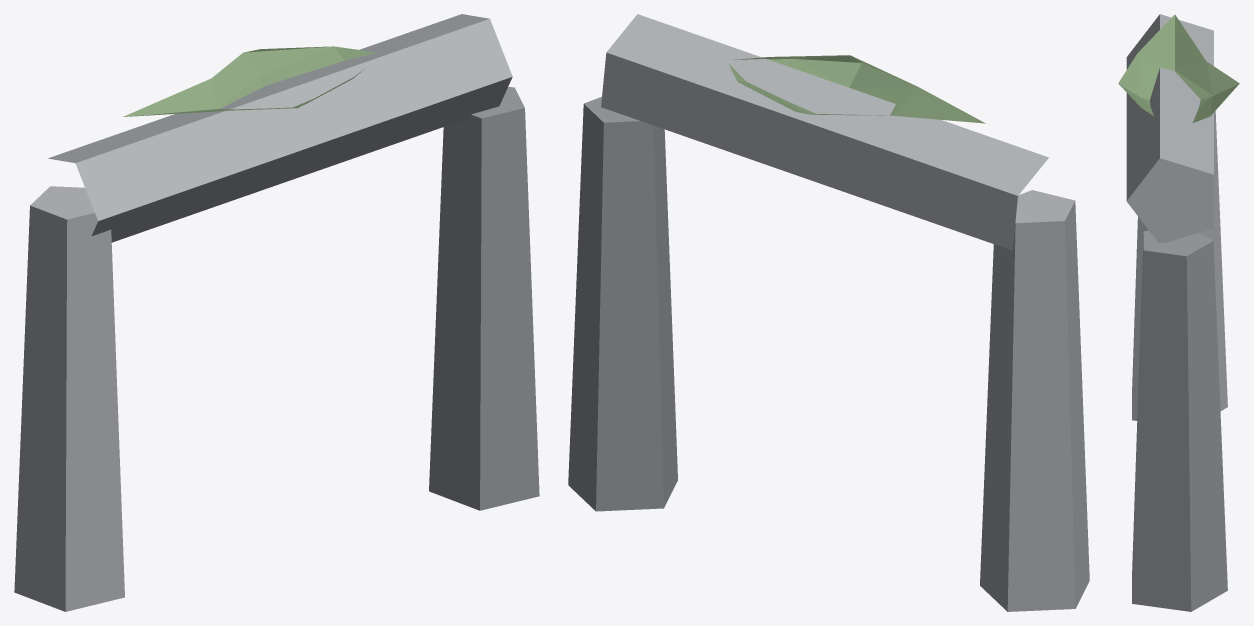
The model's file is arch_rock_v28.glb.
3 views of the same model, side by side, from view 1: azimuth 30°, elevation 25°; view 2: azimuth 150°, elevation 25°; view 3: azimuth 270°, elevation 25° (orthographic). The views are drawn at different scales.
Visible parts, largest first — view 1: lod0; view 2: lod0; view 3: lod0.
Boxes of the visible parts, box(x1,y1,x2,y2) form: lod0: box(14, 14, 539, 611); lod0: box(568, 14, 1089, 611); lod0: box(1118, 14, 1239, 611).
Size of what is drawn, in the model's own units: 2.22 by 2.02 by 0.5045.
